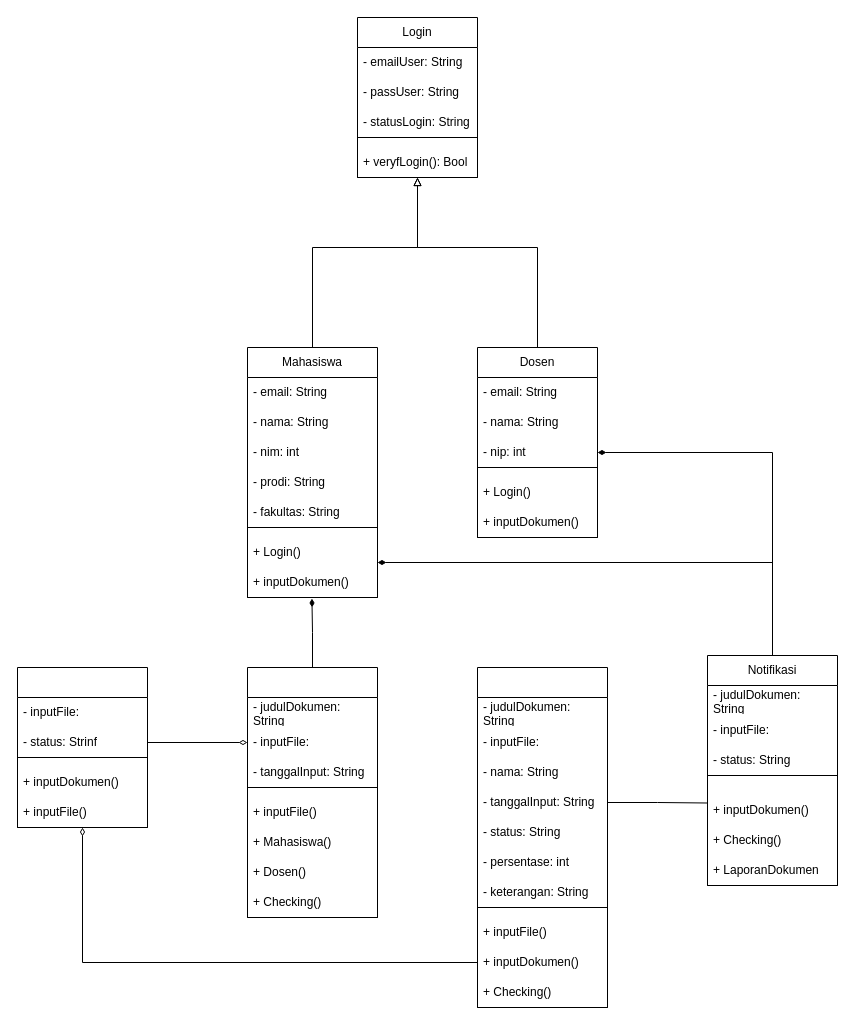
The diagram is 855 pixels wide and 1025 high, and some of its shapes have lost their labels. The box of each missing label's shape, as (x1, y1, x2, y2) in pixels:
Checking: (16, 666, 148, 828)
InputDokumen: (246, 666, 378, 918)
LaporanDokumen: (476, 666, 608, 1008)
